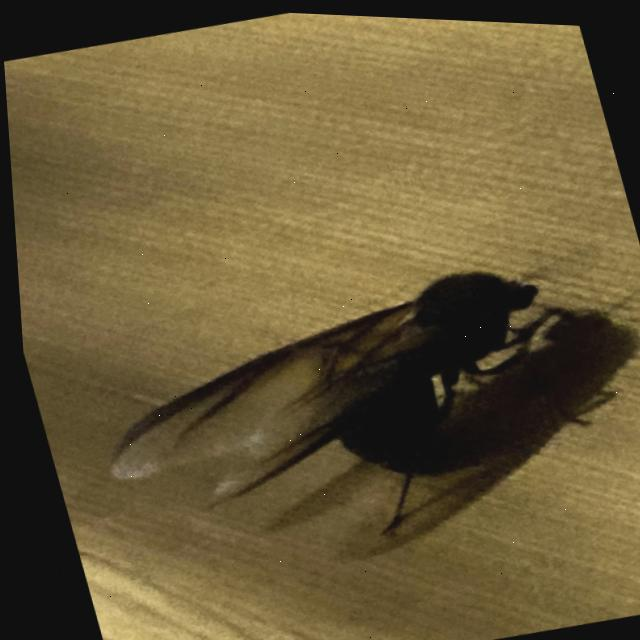Alive-Female-Alate: (59, 230, 629, 594)
